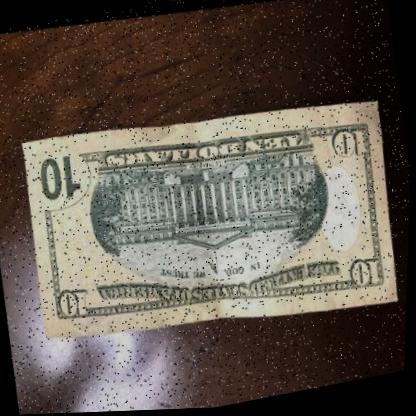ten-back: (12, 72, 409, 364)
